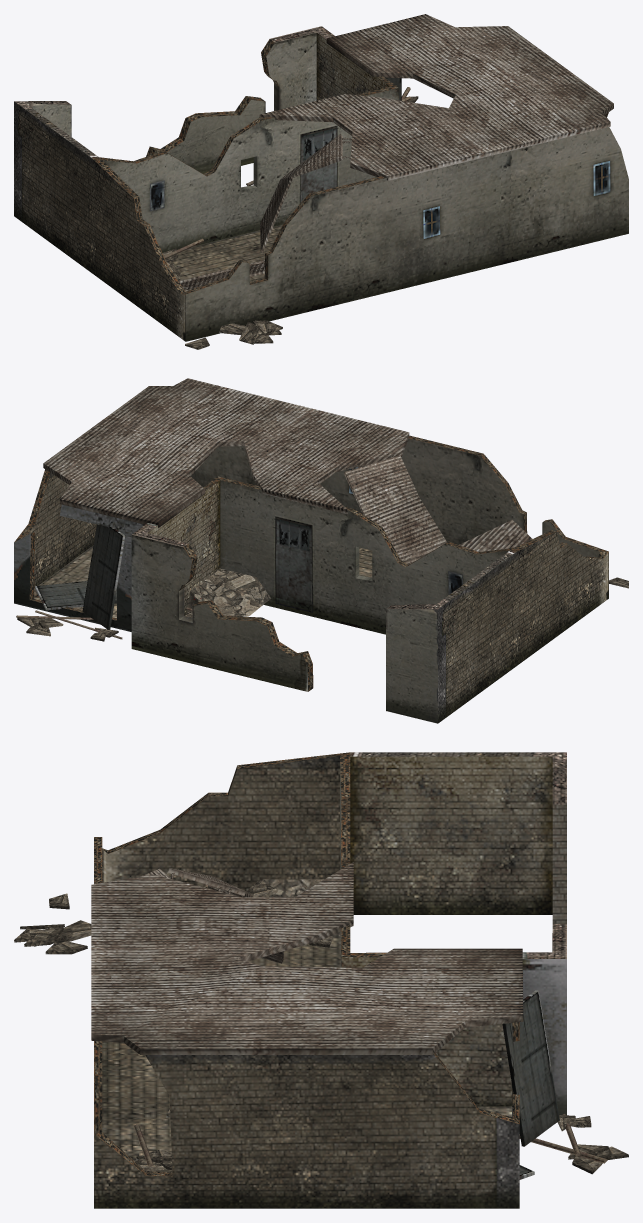
File: buildings_19_ruin.FBX
3 views of the same model, one above another, from view 1: azimuth 30°, elevation 25°; view 2: azimuth 150°, elevation 25°; view 3: azimuth 270°, elevation 25° (orthographic). The views are drawn at different scales.
Parts seen in each view (by area): view 1: objBox002; view 2: objBox002; view 3: objBox002.
Boxes of the visible parts, x1=… form: objBox002: x1=14, y1=14, x2=628, y2=349; objBox002: x1=14, y1=378, x2=628, y2=723; objBox002: x1=14, y1=752, x2=628, y2=1208.
Bounding box in the file's own units: 1387 × 1177 × 358.
1 material, 1 textured.
